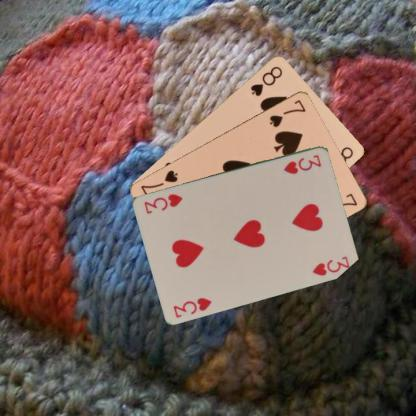3h: (171, 295, 214, 319), (281, 151, 322, 175)
7s: (267, 96, 307, 128)
8s: (248, 63, 284, 97)
